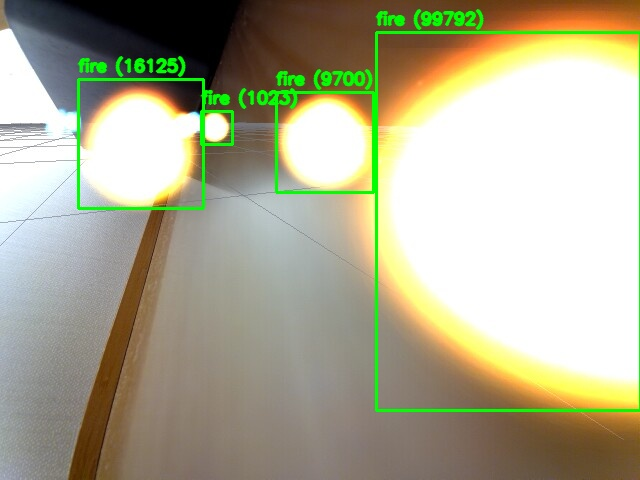fire: (376, 32, 640, 410), (78, 79, 203, 208), (276, 92, 373, 192), (201, 111, 232, 144)
